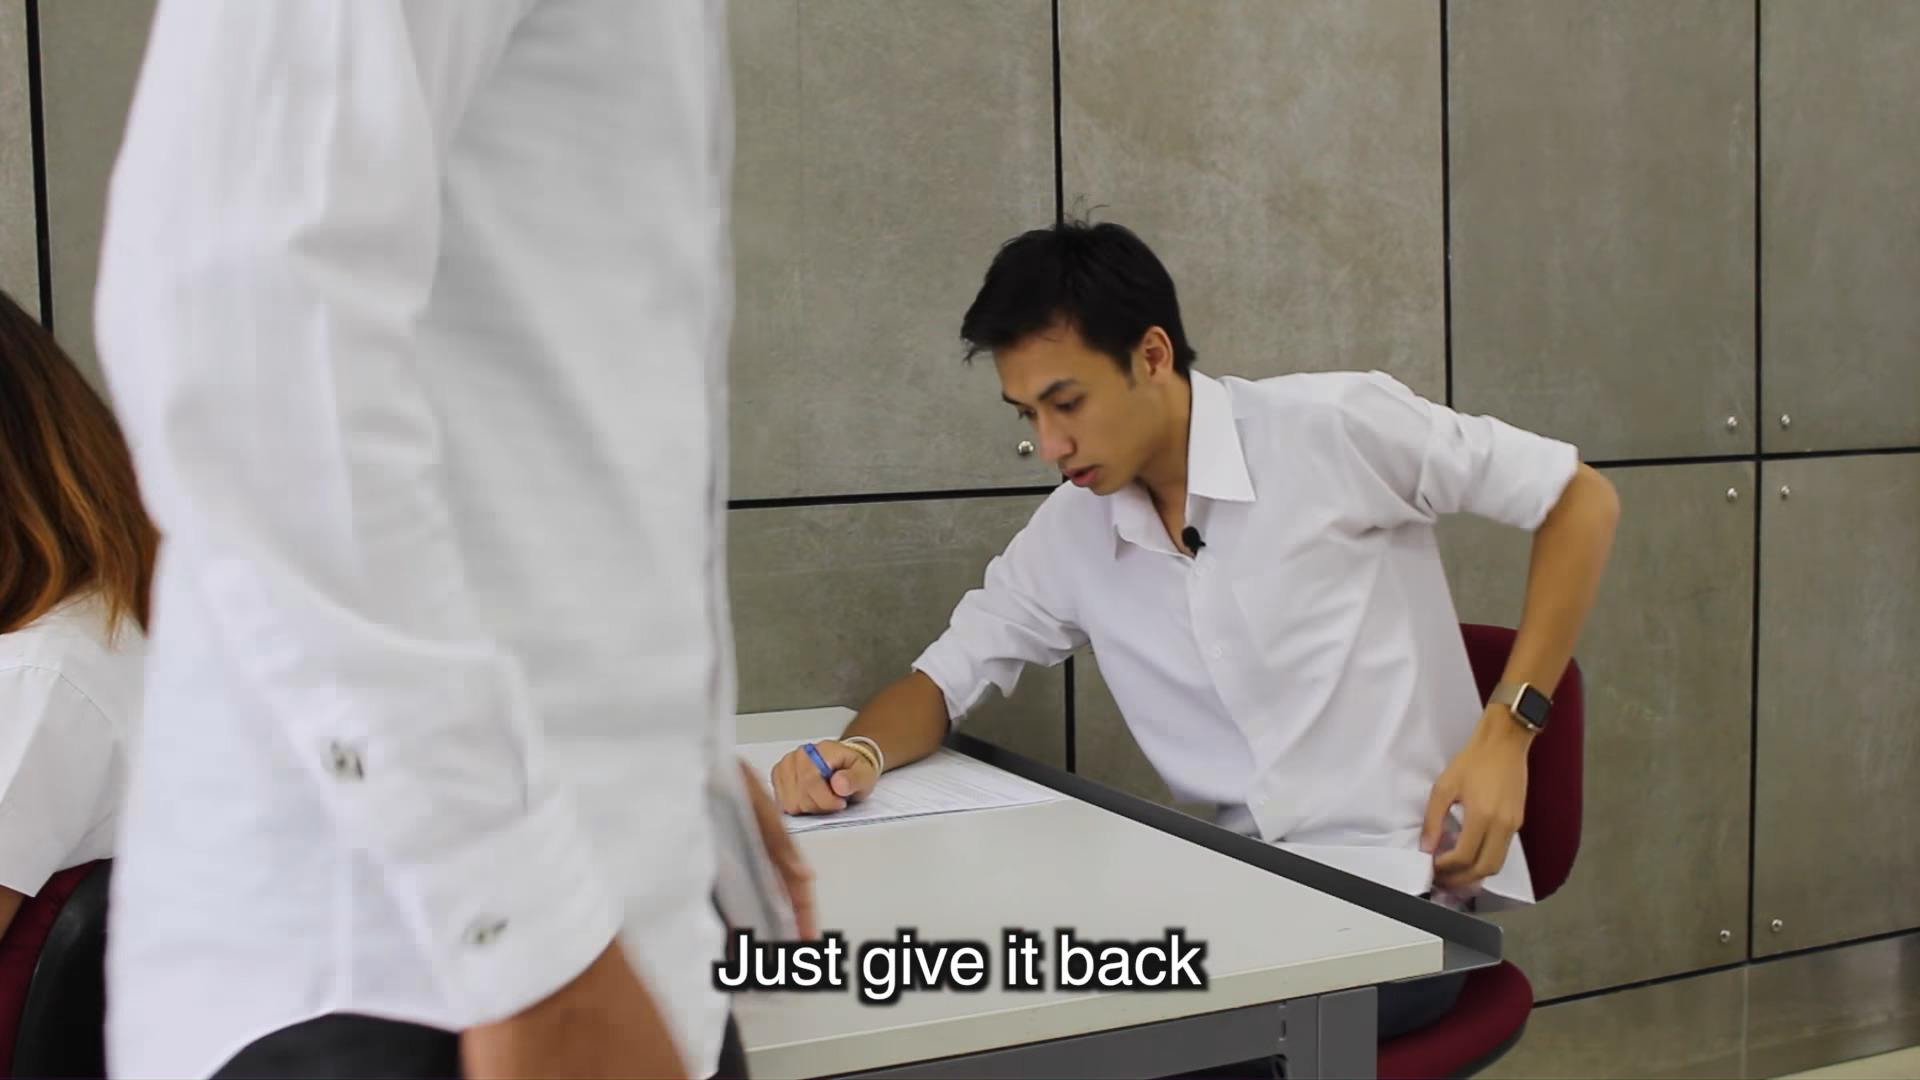good: (733, 186, 1655, 907)
